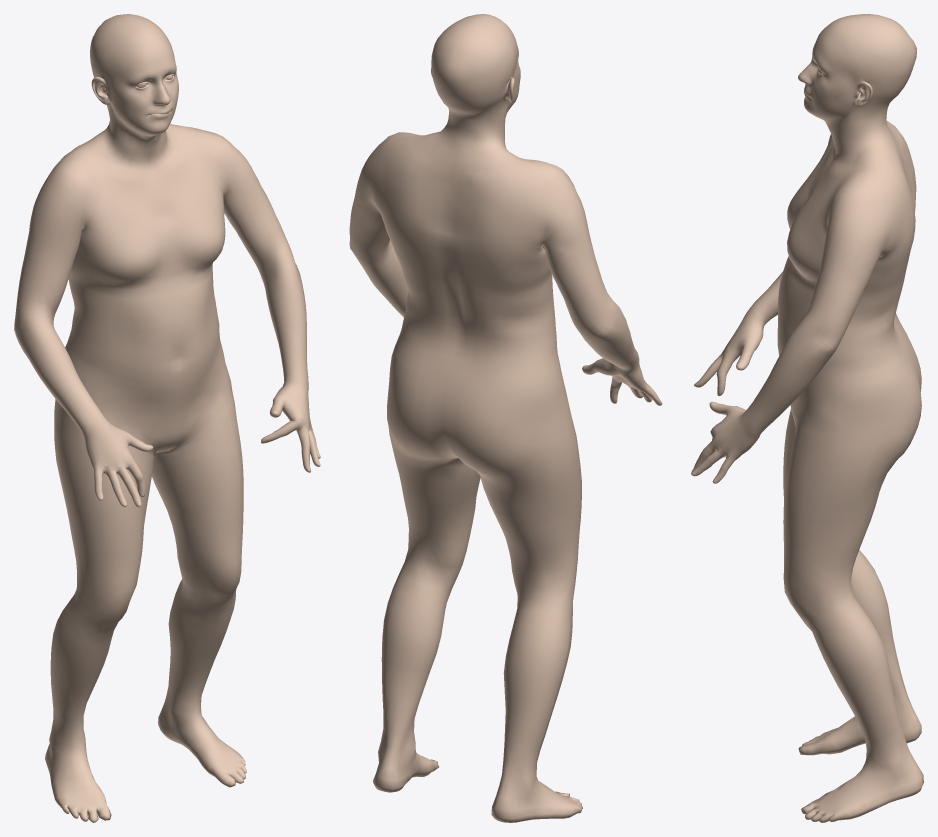
File: WORD-01442.glb
3 views of the same model, side by side, from view 1: azimuth 30°, elevation 25°; view 2: azimuth 150°, elevation 25°; view 3: azimuth 270°, elevation 25° (orthographic). The views are drawn at different scales.
Size of the model in its own units: 0.6253 by 1.72 by 0.4738.
